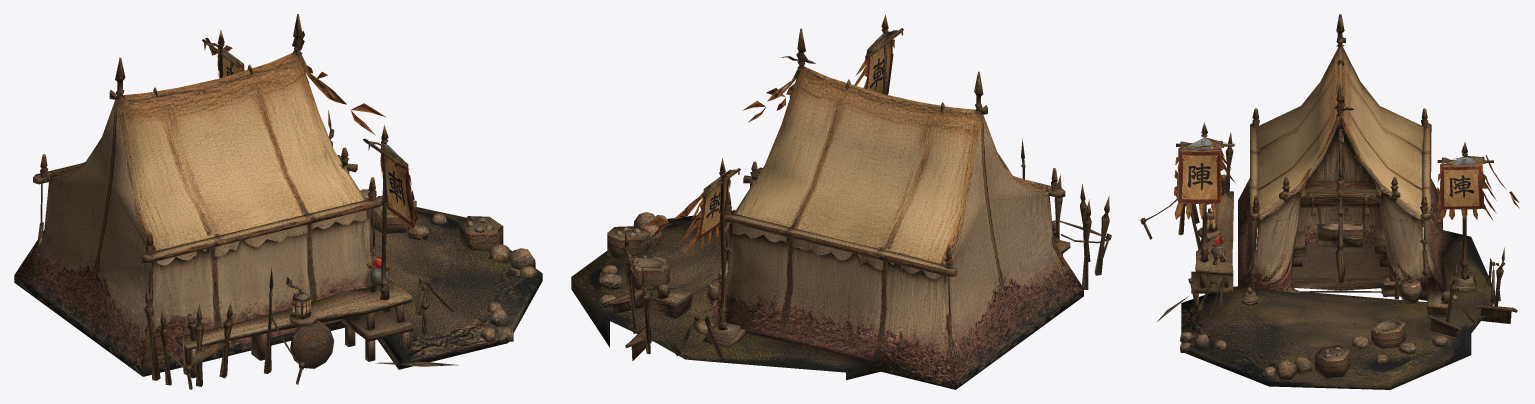
Rendered from medieval+tent+3d+model.fbx.
3 renders of one model, left to right at view 1: azimuth 30°, elevation 25°; view 2: azimuth 150°, elevation 25°; view 3: azimuth 270°, elevation 25°, orthographic. The views are drawn at different scales.
Visible parts, largest first — view 1: meshes[0]; view 2: meshes[0]; view 3: meshes[0].
Boxes of the visible parts, x1,y1,x2,y2 form: meshes[0]: (14,14,542,389); meshes[0]: (571,14,1111,389); meshes[0]: (1140,14,1519,389).
Bounding box in the file's own units: 0.998 × 0.6465 × 0.9746.
Materials: 1 (1 with a texture image).
